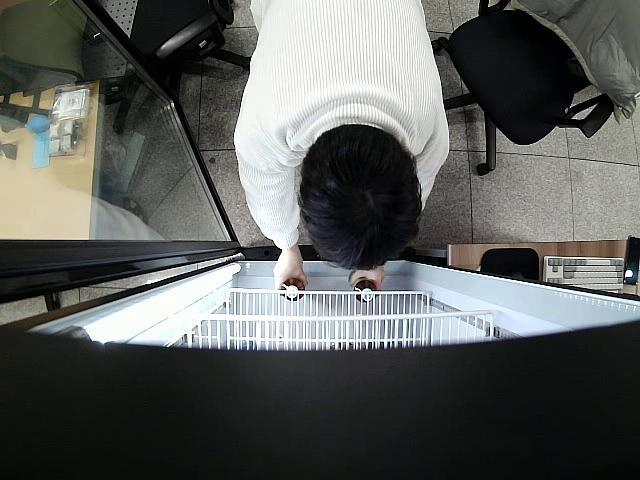19_17cha: (350, 278, 378, 302), (281, 277, 305, 301)
